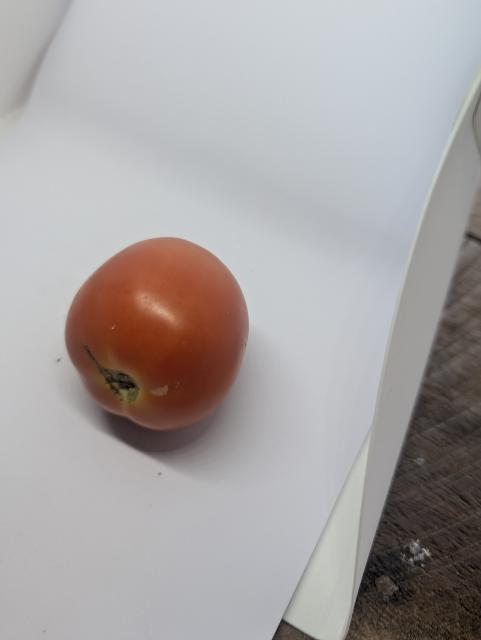red: (60, 226, 256, 453)
